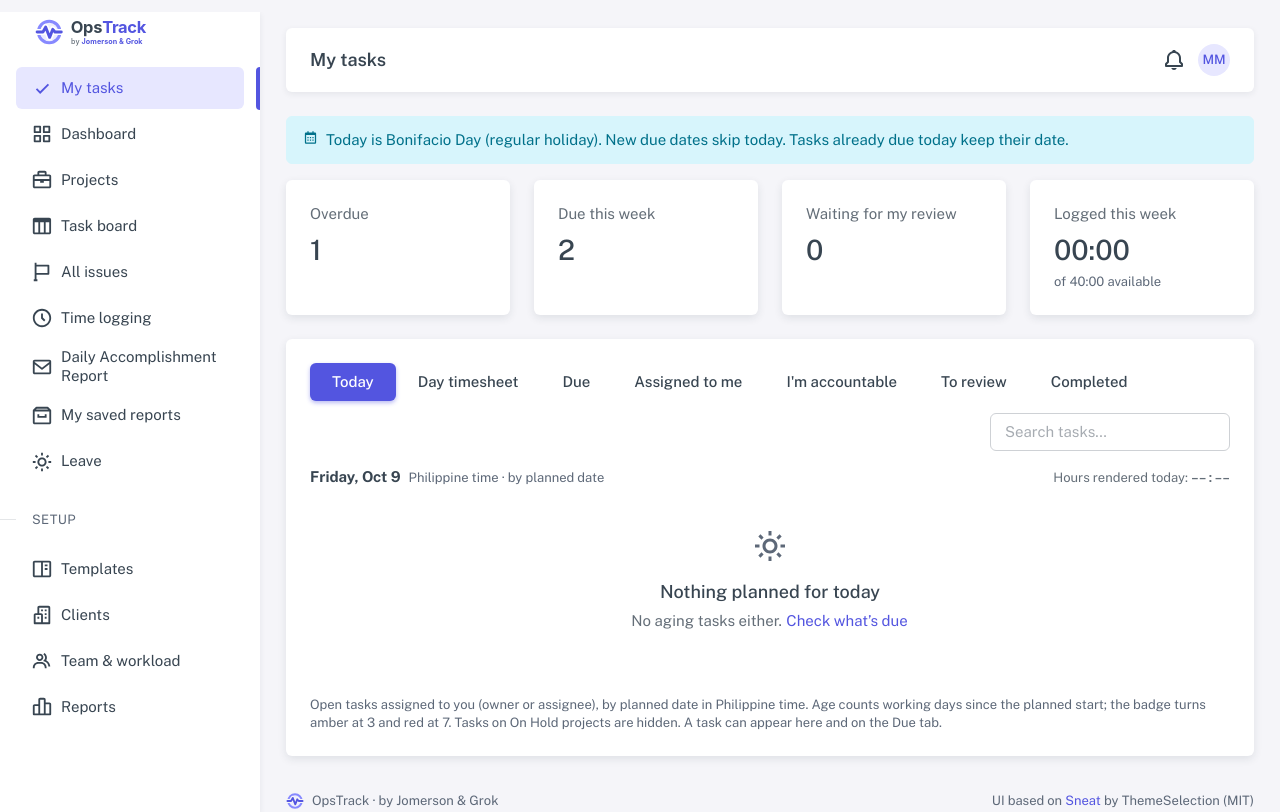
Test case: My tasks › Due (FR-TSK-20/21/22, AC-TODAY-1, TC-N22) › empty state and the holiday banner
The image size is (1280, 812).
Expected: the heading "Nothing planned for today" is shown, [660,581,880,602]
Note: "Check what's due" opens the Due tab.
Click the button "Check what’s due". click: (847, 621)
box: [785,610,909,632]
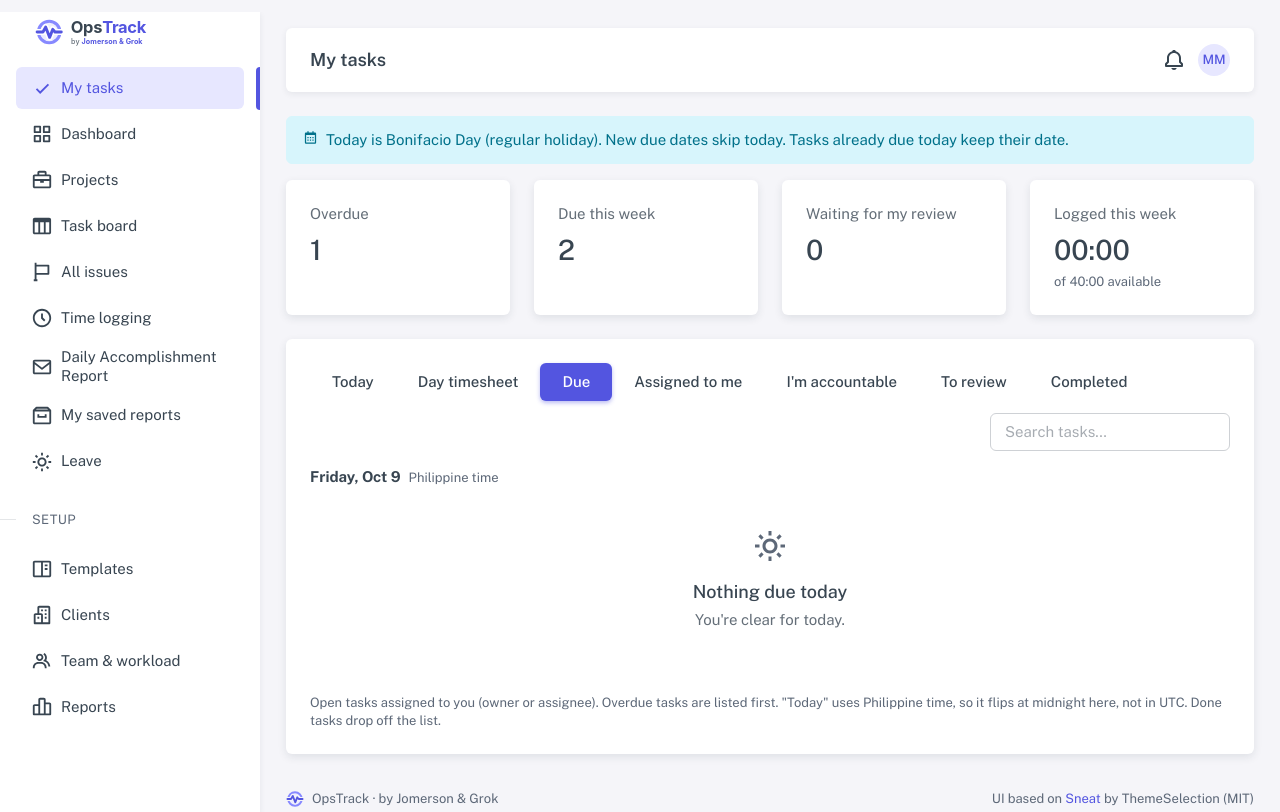
Expected: the text "Today is Bonifacio Day (regular holiday). New due dates skip today. Tasks already due today keep their date." is shown, [286,116,1254,164]
Expected: the heading "Nothing due today" is shown, [693,580,847,602]
